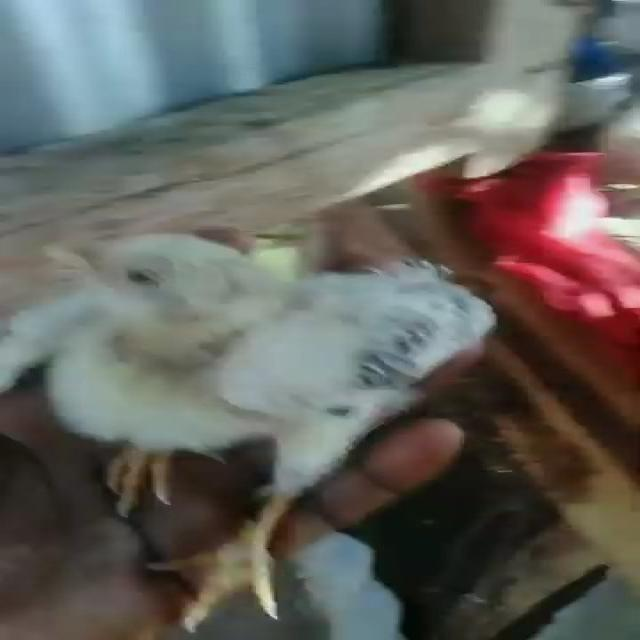newcastle: (14, 182, 505, 604)
